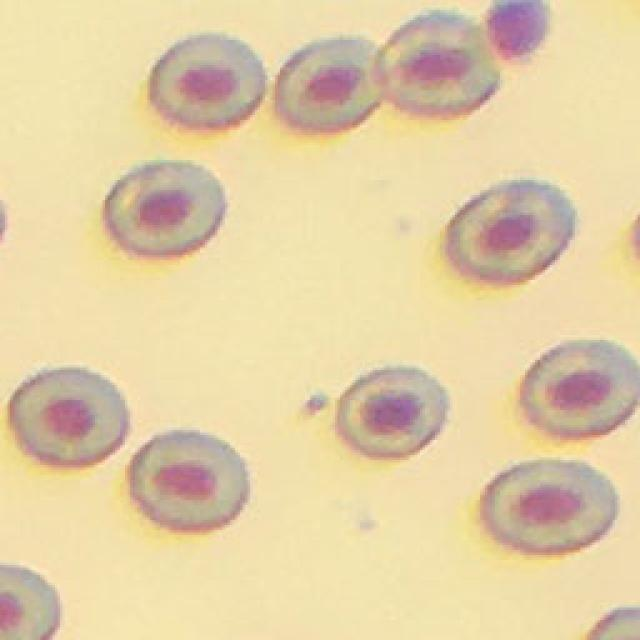RBC: (377, 11, 502, 120), (447, 179, 575, 284), (481, 459, 617, 555), (128, 429, 249, 533), (519, 339, 640, 441), (8, 368, 124, 468), (106, 161, 226, 255), (148, 33, 263, 129), (273, 39, 387, 133), (333, 369, 444, 460), (0, 564, 60, 640)
WBC: (486, 1, 549, 65)
